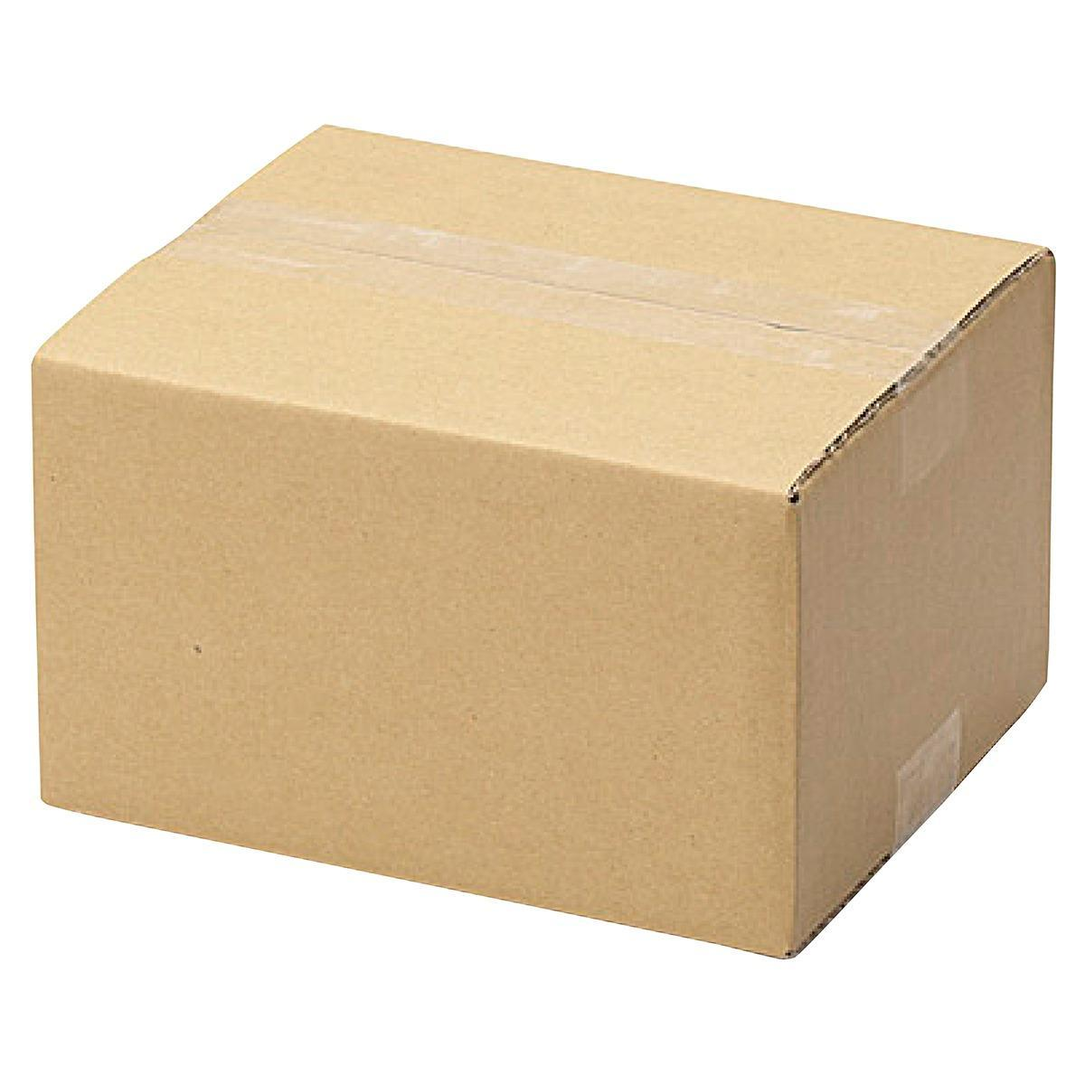box: (24, 122, 1055, 955)
